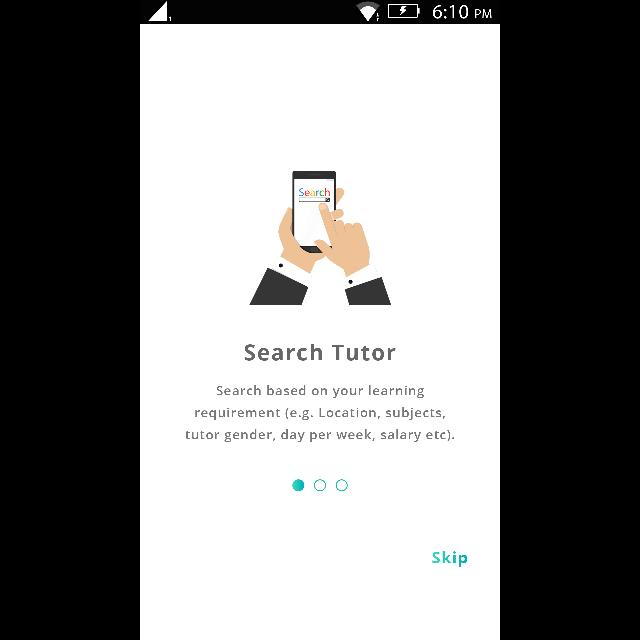image: (248, 170, 392, 306)
pageindicator: (292, 478, 348, 492)
text: (185, 384, 455, 444), (244, 342, 396, 362), (432, 550, 468, 568)
uppertaskbar: (140, 0, 500, 24)
